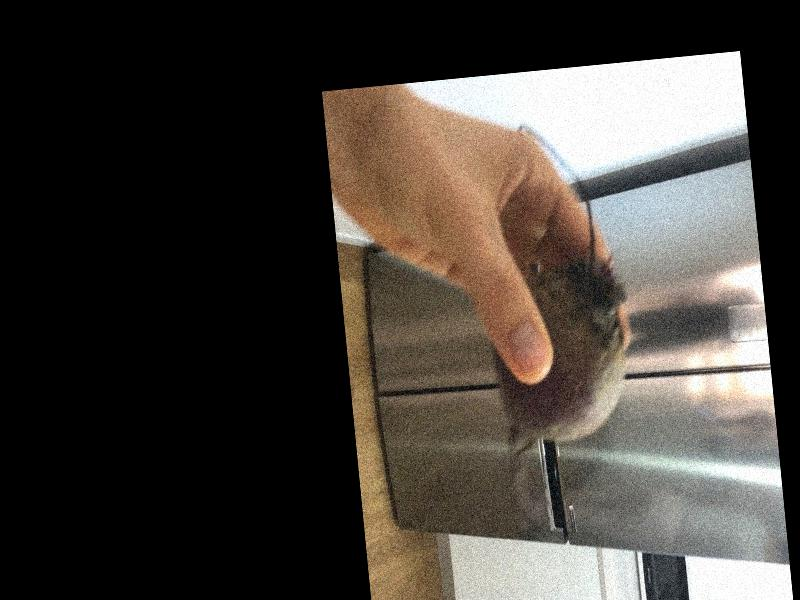Beet: (472, 116, 642, 477)
